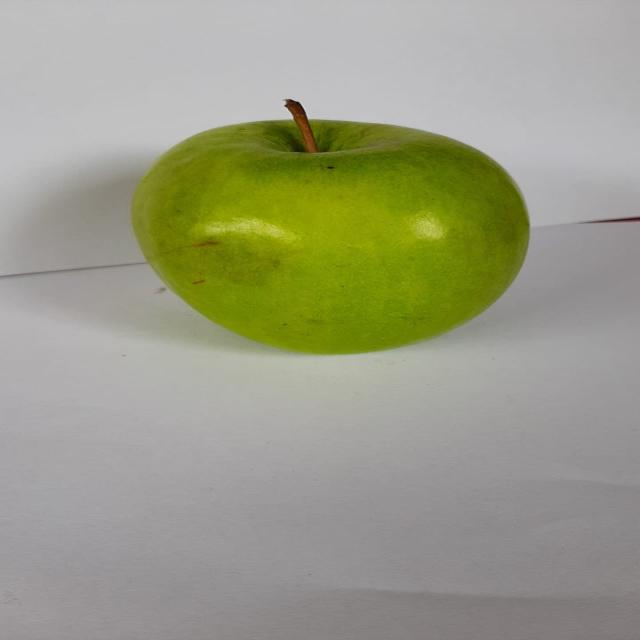50-_ripeness: (104, 97, 543, 366)
